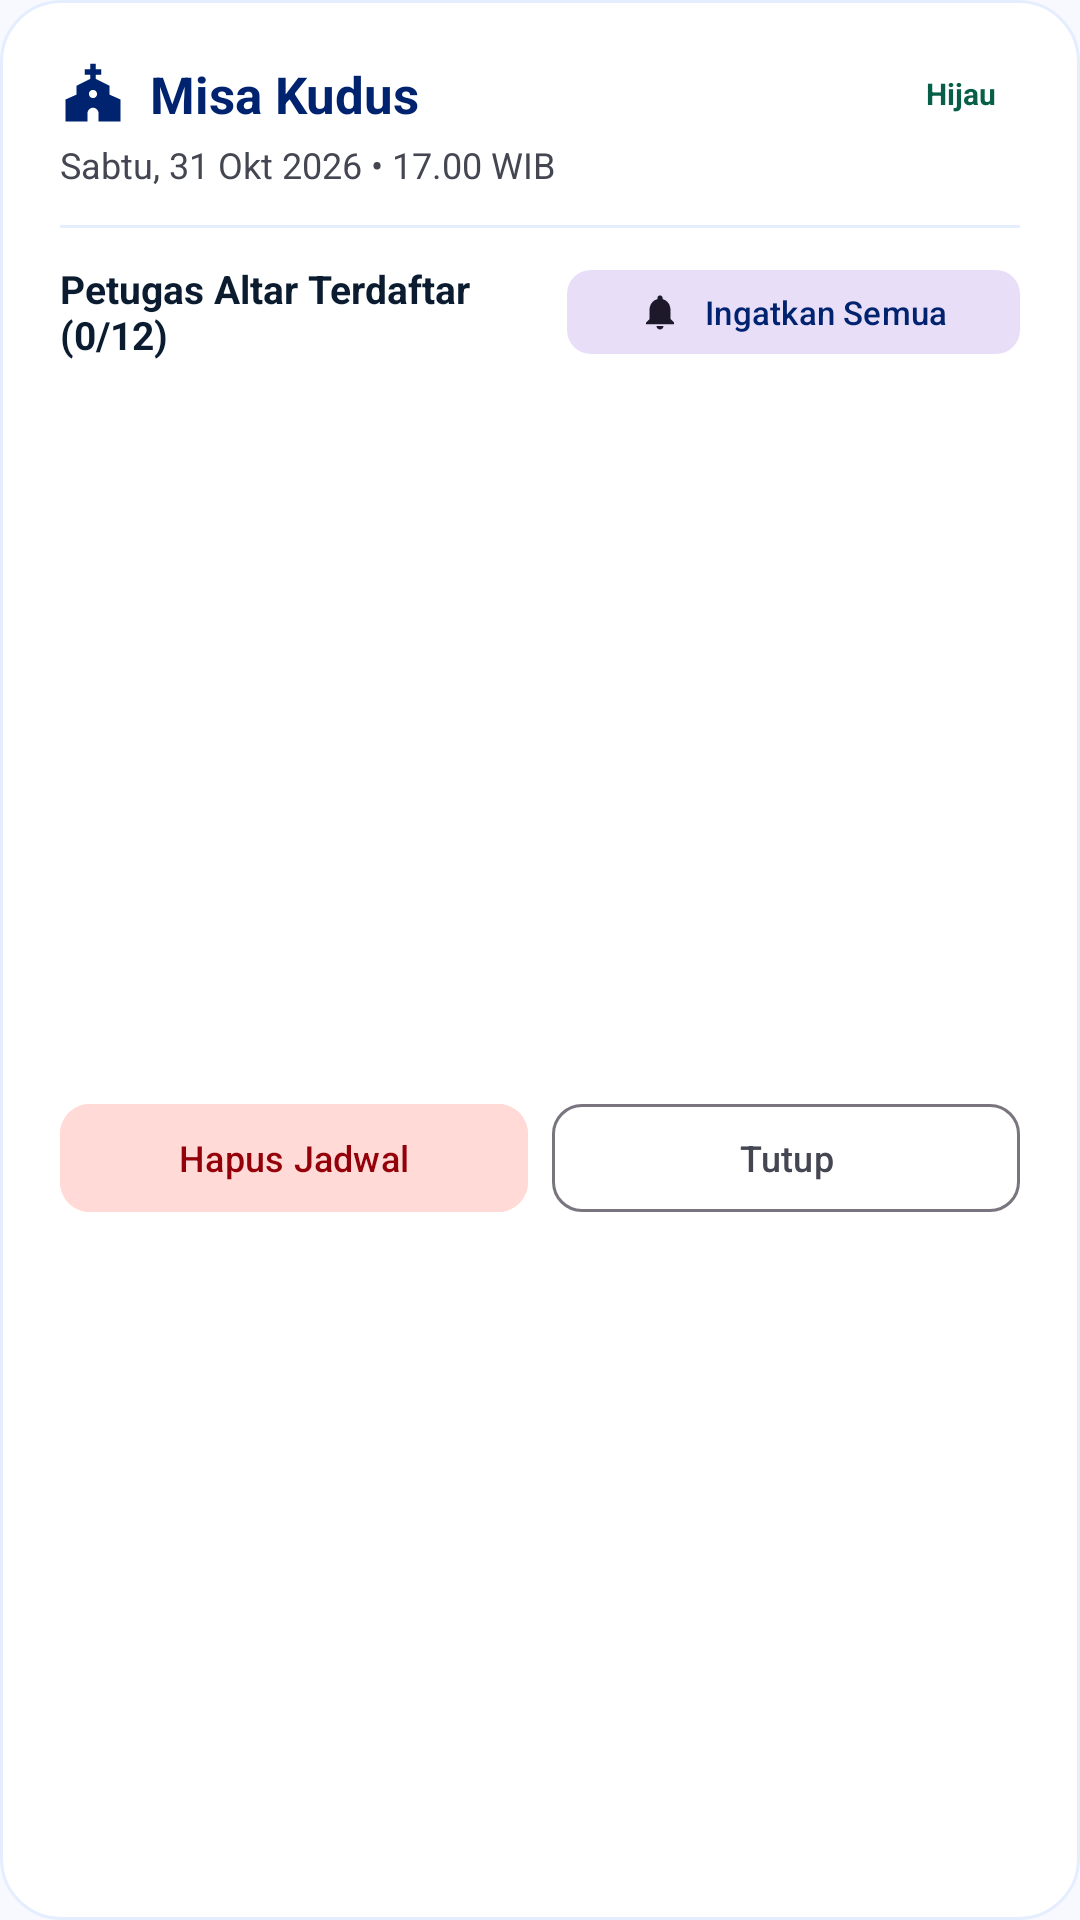

Point at icon controls on the screen. Image size 1080 x 1920, points as (x=x, y=y).
church: (x=93, y=92)
